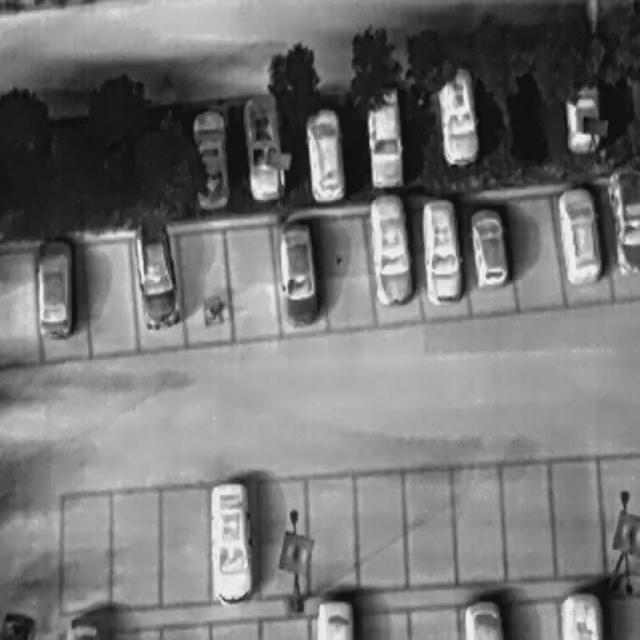Car: (127, 210, 180, 331), (237, 89, 290, 205), (365, 190, 414, 309), (209, 480, 255, 606), (271, 214, 321, 328), (431, 62, 483, 168), (554, 180, 603, 290), (300, 104, 348, 205), (190, 102, 233, 212), (363, 81, 405, 191), (423, 192, 462, 304), (35, 236, 71, 339), (465, 206, 509, 288), (610, 170, 639, 276), (563, 86, 599, 154), (558, 589, 600, 639), (313, 596, 355, 639), (461, 599, 504, 639)
